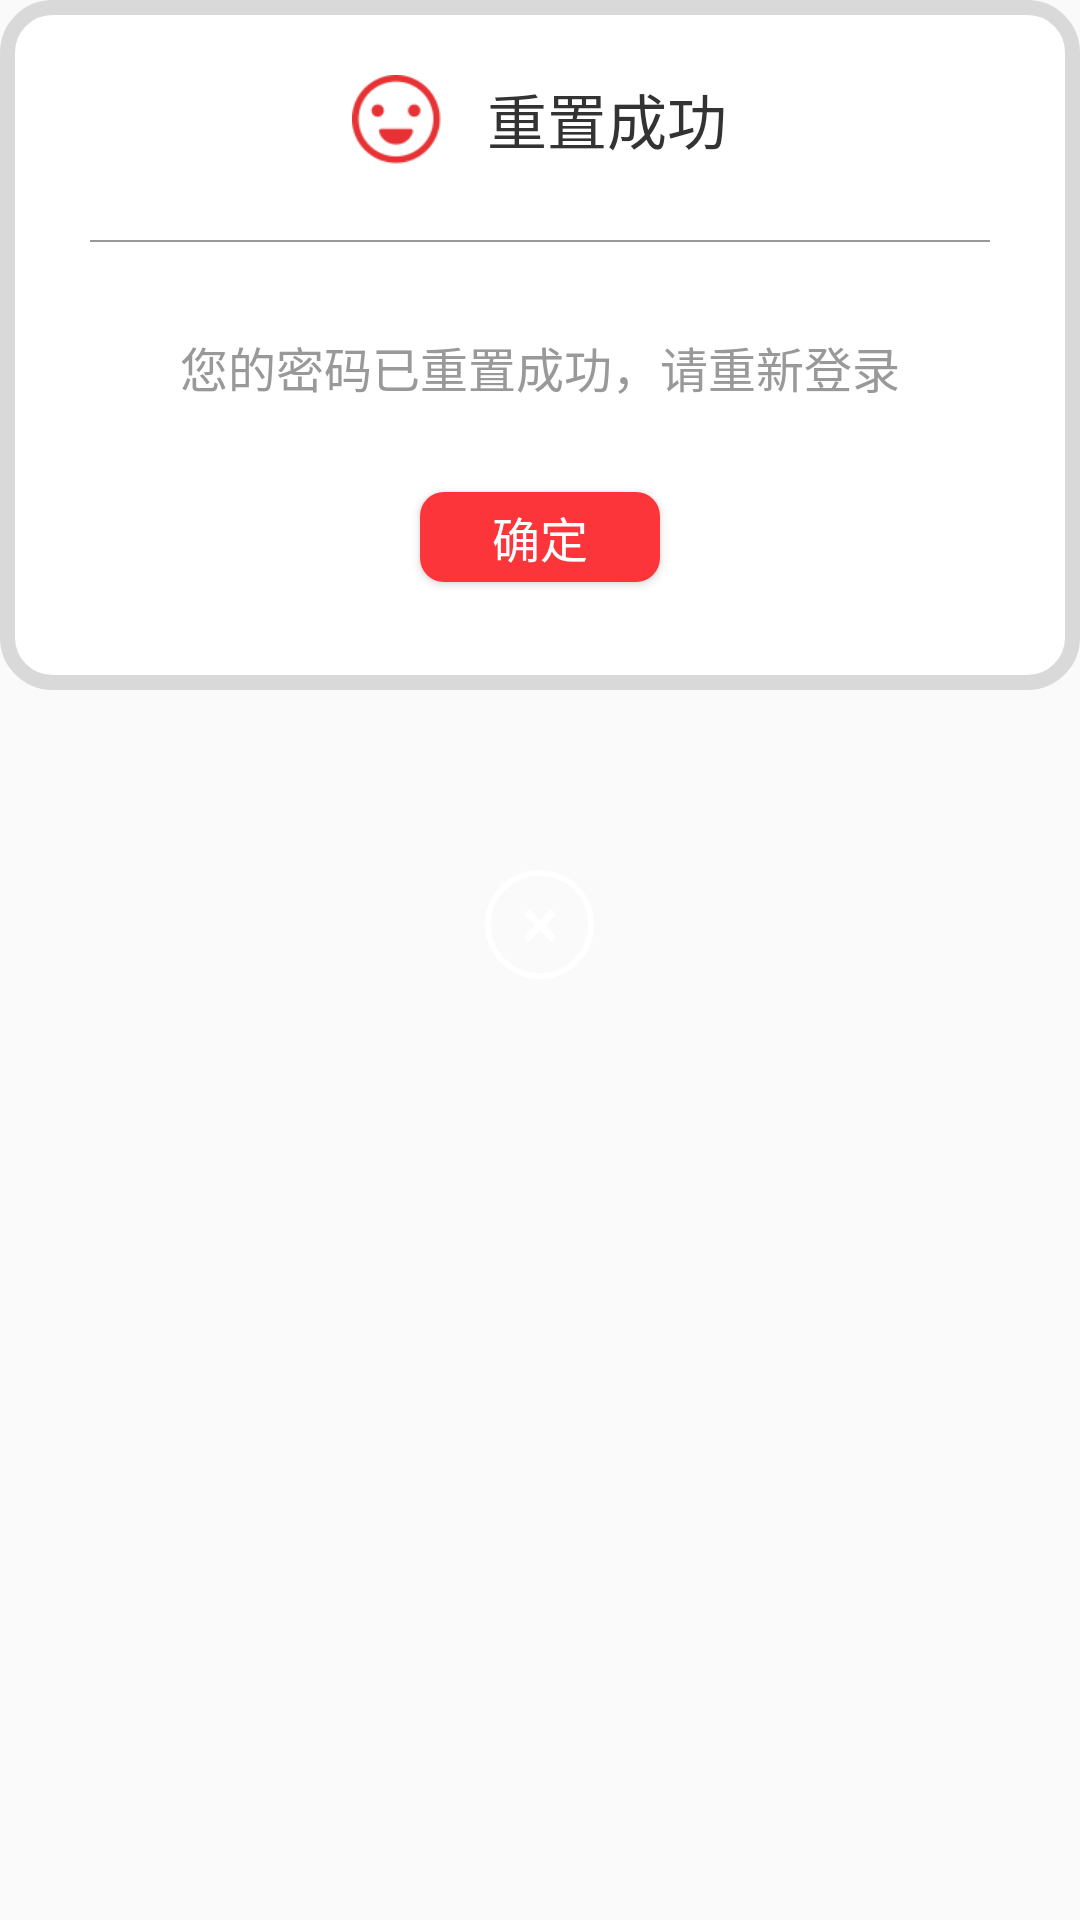

Locate icon controls on the screen. Image size 1080px×1920px, boxes as (x1, y1, x2, y2).
xialian: (352, 75, 441, 164)
